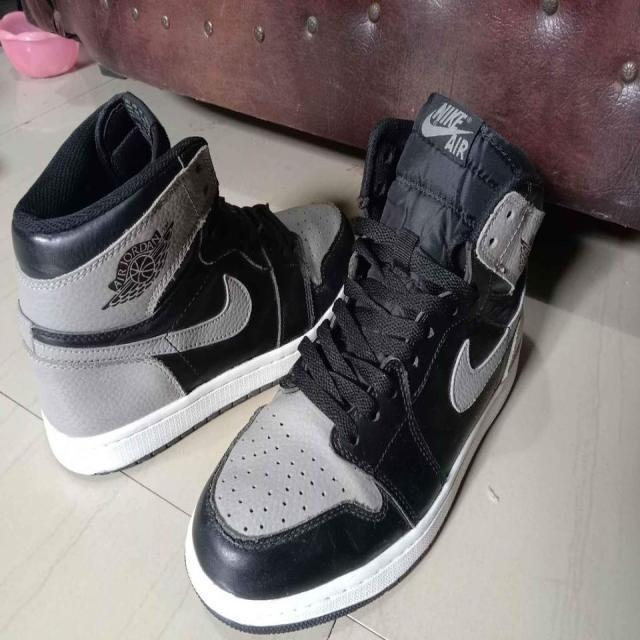nike fake jordan 1: (182, 92, 548, 633), (12, 91, 362, 476)
